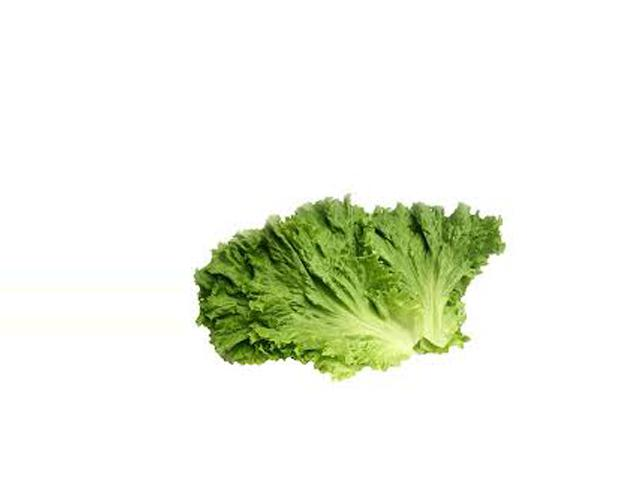lettuce: (191, 173, 501, 389)
